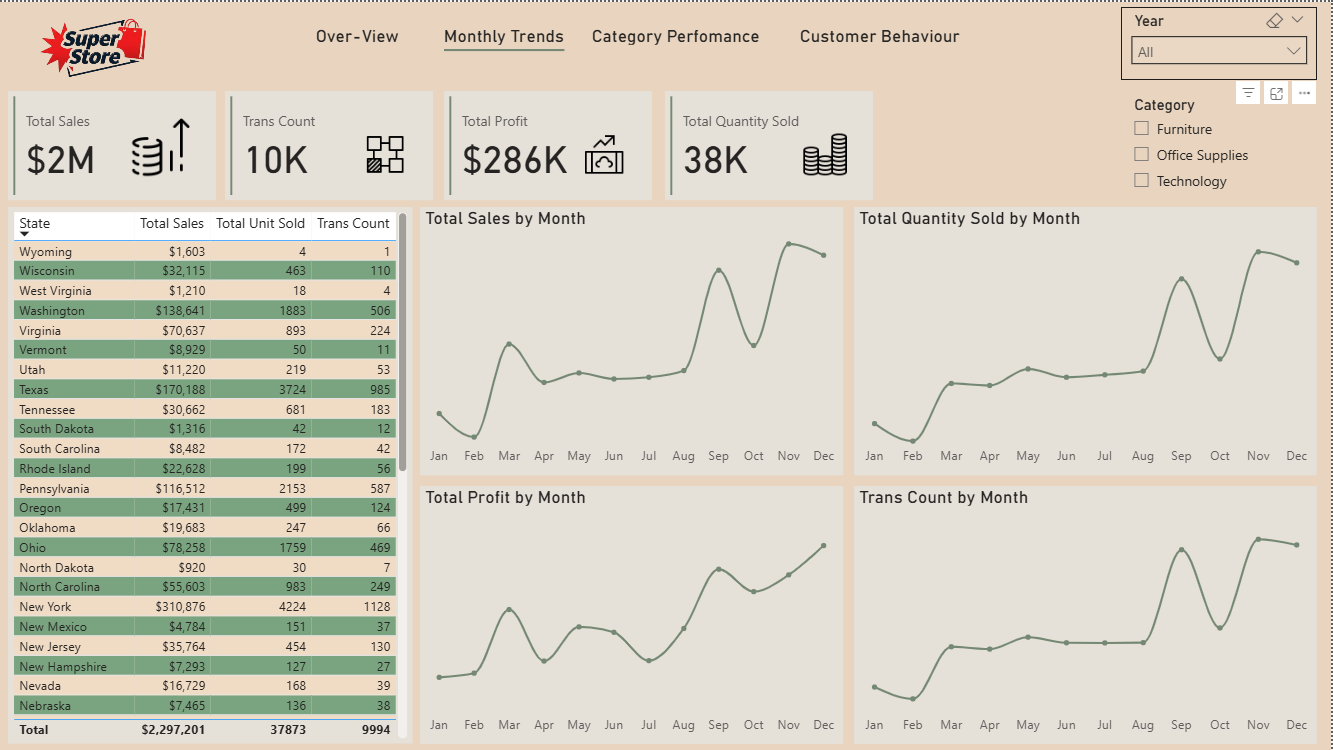

Layout of this report page (visuals, bound fields, positions):
{"tool":"powerbi","page":{"name":"Monthly Sales Trend","canvas":[1280,720],"ordinal":1},"visuals":[{"type":"image","box":[0,0,188.7,78.8],"z":0},{"type":"actionButton","title":"Over-View","box":[304.4,22.4,100.2,39.9],"z":1000},{"type":"shape","box":[428,0,115.7,92.4],"z":2000},{"type":"actionButton","title":"Monthly Trends","box":[428,22.4,122.6,39.9],"z":3000},{"type":"actionButton","title":"Category Perfomance","box":[570,22.4,169.2,39.9],"z":4000},{"type":"actionButton","title":"Customer Behaviour","box":[770.3,22.4,165.3,39.9],"z":5000},{"type":"slicer","fields":{"Values":["Calendar.Year"]},"box":[1078.7,4.9,188.7,70],"z":6000},{"type":"cardVisual","fields":{"Data":["Orders.Total Qunatity Sold"]},"box":[640,85.6,200.4,105],"z":7000},{"type":"cardVisual","fields":{"Data":["Orders.Total Profit"]},"box":[428,85.6,200.4,105],"z":8000},{"type":"cardVisual","fields":{"Data":["Orders.Trans Count"]},"box":[216.9,85.6,200.4,105],"z":9000},{"type":"cardVisual","fields":{"Data":["Orders.Total Sales"]},"box":[8.8,85.6,200,105],"z":10000},{"type":"slicer","fields":{"Values":["Orders.Category"]},"box":[1078.7,85.6,188.7,105],"z":11000},{"type":"lineChart","fields":{"Y":["Orders.Total Qunatity Sold"],"Category":["Calendar.Month"]},"box":[821.9,197.4,445.5,257.8],"z":12000},{"type":"lineChart","fields":{"Category":["Calendar.Month"],"Y":["Orders.Total Sales"]},"box":[404.6,197.4,406.6,257.8],"z":13000},{"type":"tableEx","fields":{"Values":["Orders.State","Orders.Total Sales","Orders.Total Qunatity Sold","Orders.Trans Count"]},"box":[8.8,197.4,389.1,515.5],"z":14000},{"type":"lineChart","fields":{"Category":["Calendar.Month"],"Y":["Orders.Total Profit"]},"box":[404.6,464.9,406.6,248],"z":15000},{"type":"lineChart","fields":{"Category":["Calendar.Month"],"Y":["Orders.Trans Count"]},"box":[821.9,464.9,445.5,248],"z":16000}]}

Visuals, with their boxes in screenshot pixels (x1, y1, x2, y2), scaled from the page's 1280x720 canvas onto the 1333x750 screenshot:
image: {"x1": 0, "y1": 0, "x2": 197, "y2": 82}
"Over-View" actionButton: {"x1": 317, "y1": 23, "x2": 421, "y2": 65}
shape: {"x1": 446, "y1": 0, "x2": 566, "y2": 96}
"Monthly Trends" actionButton: {"x1": 446, "y1": 23, "x2": 573, "y2": 65}
"Category Perfomance" actionButton: {"x1": 594, "y1": 23, "x2": 770, "y2": 65}
"Customer Behaviour" actionButton: {"x1": 802, "y1": 23, "x2": 974, "y2": 65}
slicer - Calendar.Year: {"x1": 1123, "y1": 5, "x2": 1320, "y2": 78}
cardVisual - Orders.Total Qunatity Sold: {"x1": 666, "y1": 89, "x2": 875, "y2": 199}
cardVisual - Orders.Total Profit: {"x1": 446, "y1": 89, "x2": 654, "y2": 199}
cardVisual - Orders.Trans Count: {"x1": 226, "y1": 89, "x2": 435, "y2": 199}
cardVisual - Orders.Total Sales: {"x1": 9, "y1": 89, "x2": 217, "y2": 199}
slicer - Orders.Category: {"x1": 1123, "y1": 89, "x2": 1320, "y2": 199}
lineChart - Orders.Total Qunatity Sold x Calendar.Month: {"x1": 856, "y1": 206, "x2": 1320, "y2": 474}
lineChart - Calendar.Month x Orders.Total Sales: {"x1": 421, "y1": 206, "x2": 845, "y2": 474}
tableEx - Orders.State x Orders.Total Sales: {"x1": 9, "y1": 206, "x2": 414, "y2": 743}
lineChart - Calendar.Month x Orders.Total Profit: {"x1": 421, "y1": 484, "x2": 845, "y2": 743}
lineChart - Calendar.Month x Orders.Trans Count: {"x1": 856, "y1": 484, "x2": 1320, "y2": 743}
